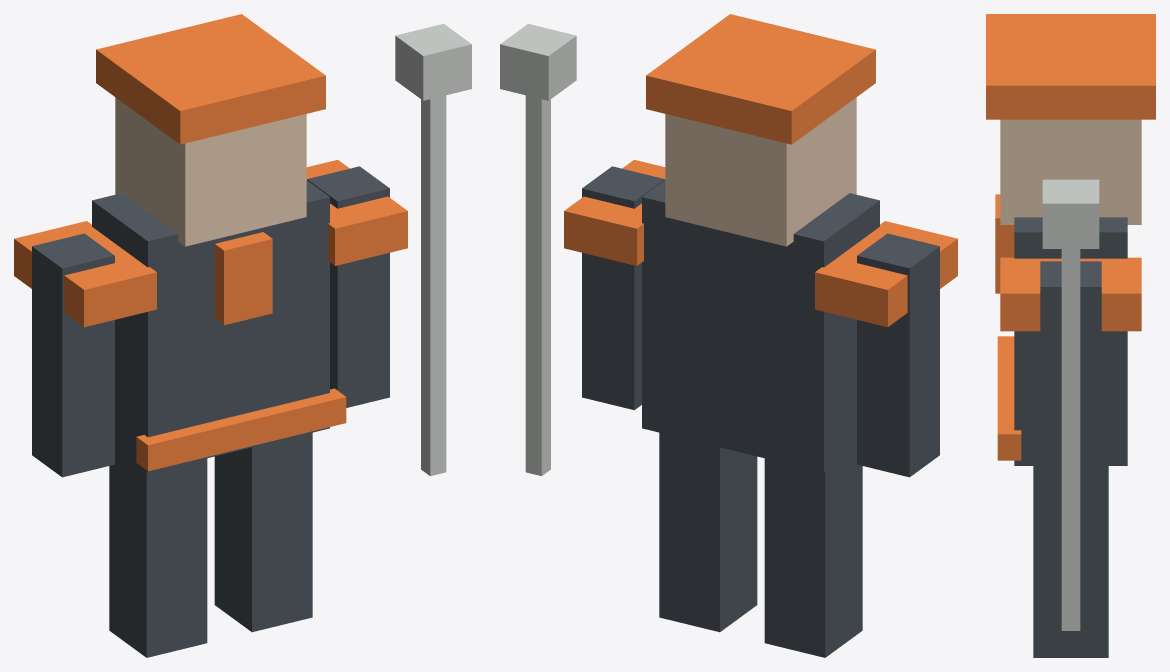
The model's file is 12_luma_skyharrow_watcher_from_outer.glb.
3 views of the same model, side by side, from view 1: azimuth 30°, elevation 25°; view 2: azimuth 150°, elevation 25°; view 3: azimuth 270°, elevation 25° (orthographic).
Visible parts, largest first — view 1: Luma Skyharrow, Watcher from Outer; view 2: Luma Skyharrow, Watcher from Outer; view 3: Luma Skyharrow, Watcher from Outer.
Boxes of the visible parts, x1=… form: Luma Skyharrow, Watcher from Outer: x1=14, y1=14, x2=471, y2=657; Luma Skyharrow, Watcher from Outer: x1=500, y1=14, x2=957, y2=657; Luma Skyharrow, Watcher from Outer: x1=986, y1=14, x2=1155, y2=657.
Bounding box in the file's own units: 1.07 × 1.4 × 0.379.
